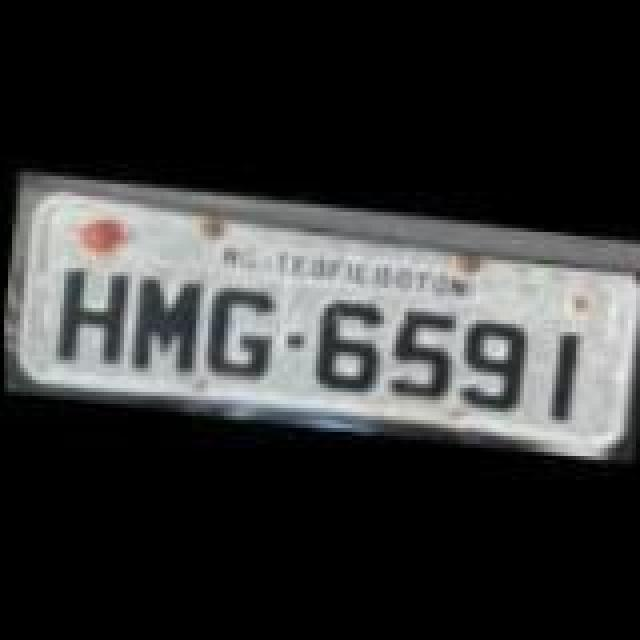1: (542, 324, 582, 428)
5: (380, 302, 460, 410)
6: (308, 290, 388, 394)
9: (454, 316, 530, 420)
G: (200, 278, 280, 386)
H: (52, 258, 132, 374)
M: (120, 272, 208, 380)
